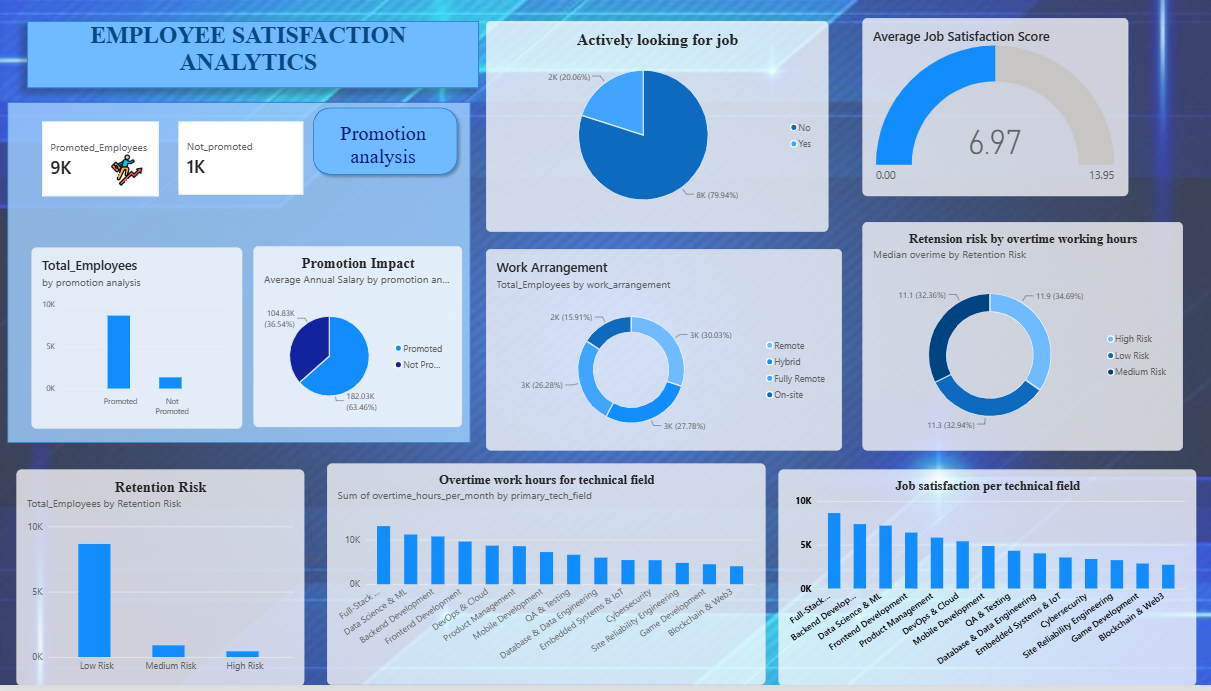

This screenshot's page, from the dashboard's own definition file:
{"tool":"powerbi","page":{"name":"Employee Satisfaction Analytics","canvas":[1920,1080],"ordinal":5},"visuals":[{"type":"shape","box":[11.8,160.7,729.1,537.1],"z":0},{"type":"clusteredColumnChart","title":"Overtime work hours for technical field","fields":{"Category":["tech_salary_dataset.primary_tech_field"],"Y":["Sum(tech_salary_dataset.overtime_hours_per_month)"]},"box":[514.3,731.2,690.6,348.6],"z":0,"group":"g1"},{"type":"shape","box":[43.1,32.4,711.9,105.7],"z":1000},{"type":"gauge","fields":{"Y":["tech_salary_dataset.Average Job Satisfaction Score"]},"box":[1359,28,418.5,280.4],"z":2000},{"type":"textbox","box":[43.1,32.4,696.8,105.7],"z":3000},{"type":"cardVisual","fields":{"Data":["tech_salary_dataset.Promoted_Employees"]},"box":[66.4,190.4,183.7,117.8],"z":4000,"group":"g3"},{"type":"cardVisual","fields":{"Data":["tech_salary_dataset.Not_promoted"]},"box":[281.9,190.4,196.4,115.5],"z":4000},{"type":"clusteredColumnChart","title":"Retention Risk","fields":{"Y":["tech_salary_dataset.Total_Employees"],"Category":["tech_salary_dataset.Retention Risk"]},"box":[25.9,739.9,453,340.8],"z":5000},{"type":"pieChart","title":"Promotion Impact","fields":{"Category":["tech_salary_dataset.promotion analysis"],"Y":["tech_salary_dataset.Average Annual Salary"]},"box":[398.4,387.1,328.7,285.5],"z":6000},{"type":"donutChart","title":"Work Arrangement ","fields":{"Category":["tech_salary_dataset.work_arrangement"],"Y":["tech_salary_dataset.Total_Employees"]},"box":[765.8,392.6,560.9,317.1],"z":7000},{"type":"clusteredColumnChart","fields":{"Y":["tech_salary_dataset.Total_Employees"],"Category":["tech_salary_dataset.promotion analysis"]},"box":[49.6,388.7,332.3,285.5],"z":8000},{"type":"pieChart","title":"Actively looking for job","fields":{"Y":["tech_salary_dataset.Total_Employees"],"Category":["tech_salary_dataset.is_actively_looking"]},"box":[765.8,32.4,539.3,332.2],"z":9000},{"type":"clusteredColumnChart","title":"Job satisfaction per technical field","fields":{"Y":["Sum(tech_salary_dataset.job_satisfaction_score)"],"Category":["tech_salary_dataset.primary_tech_field"]},"box":[1225.3,739.9,657.9,340.8],"z":10000},{"type":"image","box":[162.2,241.4,73.2,49.6],"z":10502,"group":"g3"},{"type":"donutChart","title":"Retension risk by overtime working hours","fields":{"Category":["tech_salary_dataset.Retention Risk"],"Y":["tech_salary_dataset.Median overime"]},"box":[1359,349.5,504.8,360.2],"z":11000},{"type":"group","id":"g1","title":"Group 2","box":[484.3,160.7,720.6,919.1],"z":12000},{"type":"group","id":"g2","title":"Group 1","box":[66.4,190.4,183.7,117.8],"z":13000},{"type":"shape","box":[484.3,160.7,245.1,123.2],"z":13001,"group":"g1"},{"type":"group","id":"g3","title":"Group 3","box":[66.4,190.4,183.7,117.8],"z":13001,"group":"g2"},{"type":"textbox","box":[515.1,191.4,177.2,75.6],"z":13001}]}

Visuals, with their boxes in screenshot pixels (x1, y1, x2, y2), scaled from the page's 1920x1080 canvas onto the 1211x691 screenshot:
shape: (7,103,467,446)
"Overtime work hours for technical field" clusteredColumnChart: (324,468,760,690)
shape: (27,21,476,88)
gauge - tech_salary_dataset.Average Job Satisfaction Score: (857,18,1121,197)
textbox: (27,21,467,88)
cardVisual - tech_salary_dataset.Promoted_Employees: (42,122,158,197)
cardVisual - tech_salary_dataset.Not_promoted: (178,122,302,196)
"Retention Risk" clusteredColumnChart: (16,473,302,690)
"Promotion Impact" pieChart: (251,248,459,430)
"Work Arrangement " donutChart: (483,251,837,454)
clusteredColumnChart - tech_salary_dataset.Total_Employees x tech_salary_dataset.promotion analysis: (31,249,241,431)
"Actively looking for job" pieChart: (483,21,823,233)
"Job satisfaction per technical field" clusteredColumnChart: (773,473,1188,690)
image: (102,154,148,186)
"Retension risk by overtime working hours" donutChart: (857,224,1176,454)
"Group 2" group: (305,103,760,690)
"Group 1" group: (42,122,158,197)
shape: (305,103,460,182)
"Group 3" group: (42,122,158,197)
textbox: (325,122,437,171)
